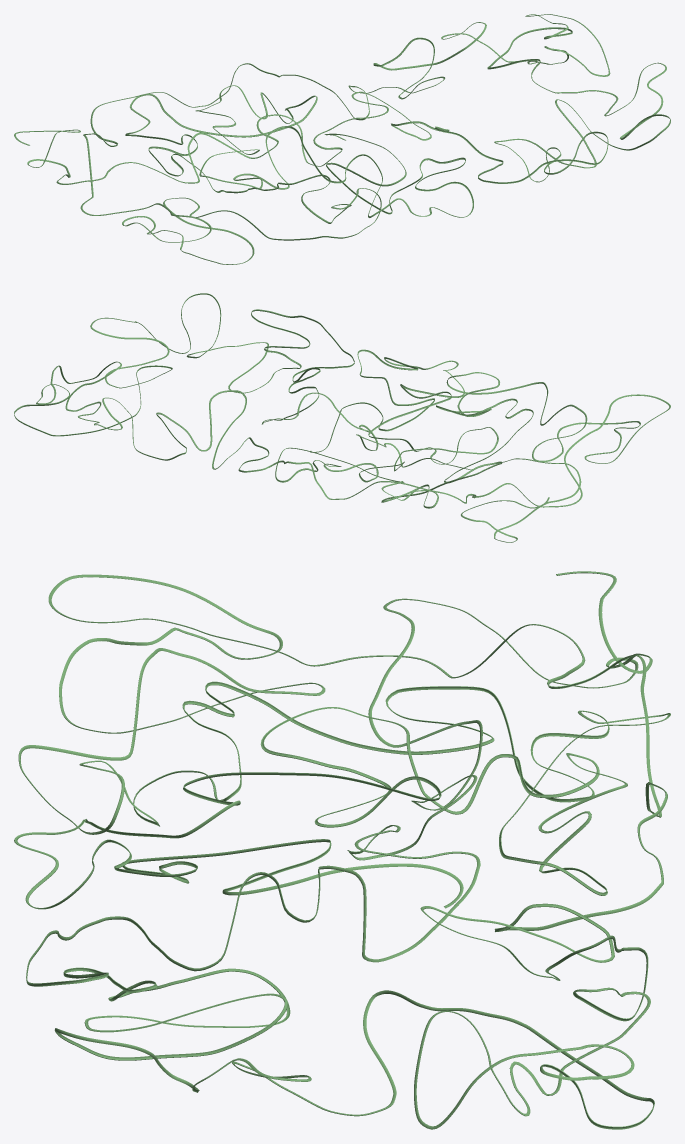
Rendered from T1_PathPoly.fbx.
3 views of the same model, one above another, from view 1: azimuth 30°, elevation 25°; view 2: azimuth 150°, elevation 25°; view 3: azimuth 270°, elevation 25° (orthographic). The views are drawn at different scales.
Parts seen in each view (by area): view 1: TOP1CurvePolyLine; view 2: TOP1CurvePolyLine; view 3: TOP1CurvePolyLine.
Boxes of the visible parts, x1,y1,x2,y2 form: TOP1CurvePolyLine: (14,14,670,264); TOP1CurvePolyLine: (14,293,670,542); TOP1CurvePolyLine: (14,571,670,1129).
Size of the model in its own units: 420 by 30.81 by 231.
